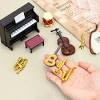Piano: (1, 2, 50, 50)
Violin: (53, 25, 82, 64)
